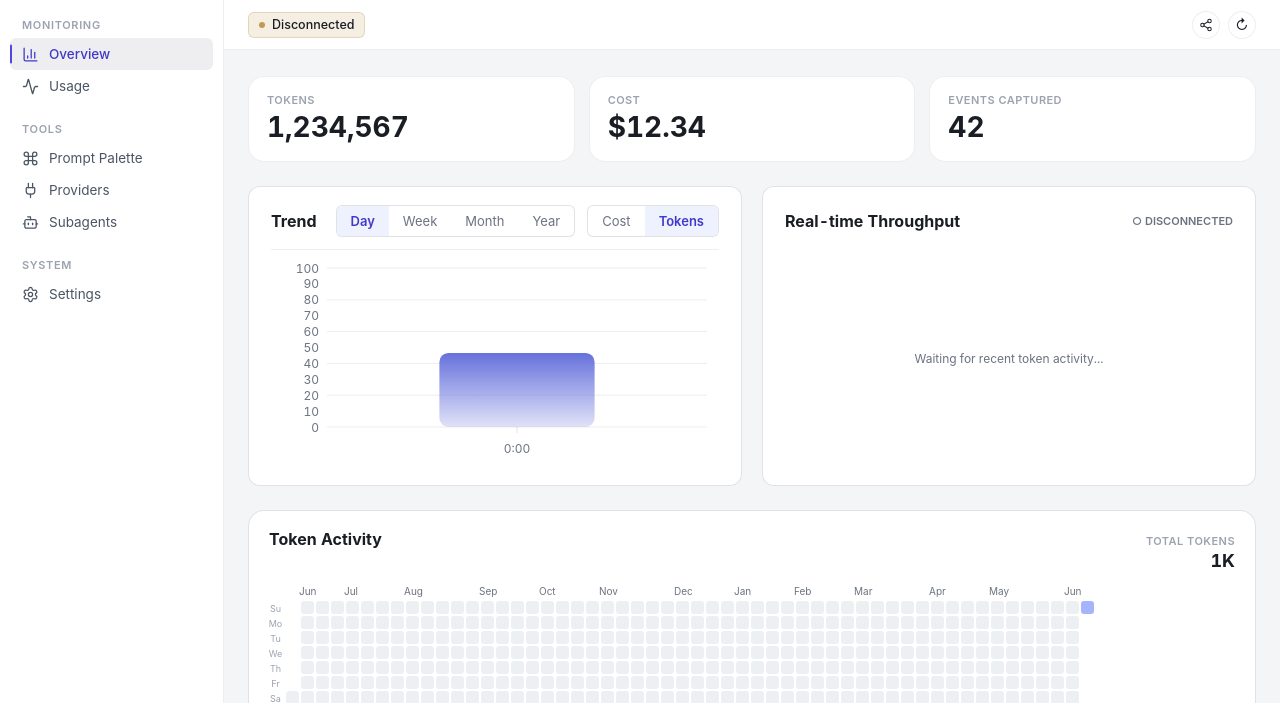
Test: App › navigates back to overview from settings
The image size is (1280, 703).
expect the heading "Trend" is shown: met, box [271, 213, 316, 229]
Click the button "Settings": (112, 294) [10, 278, 213, 310]
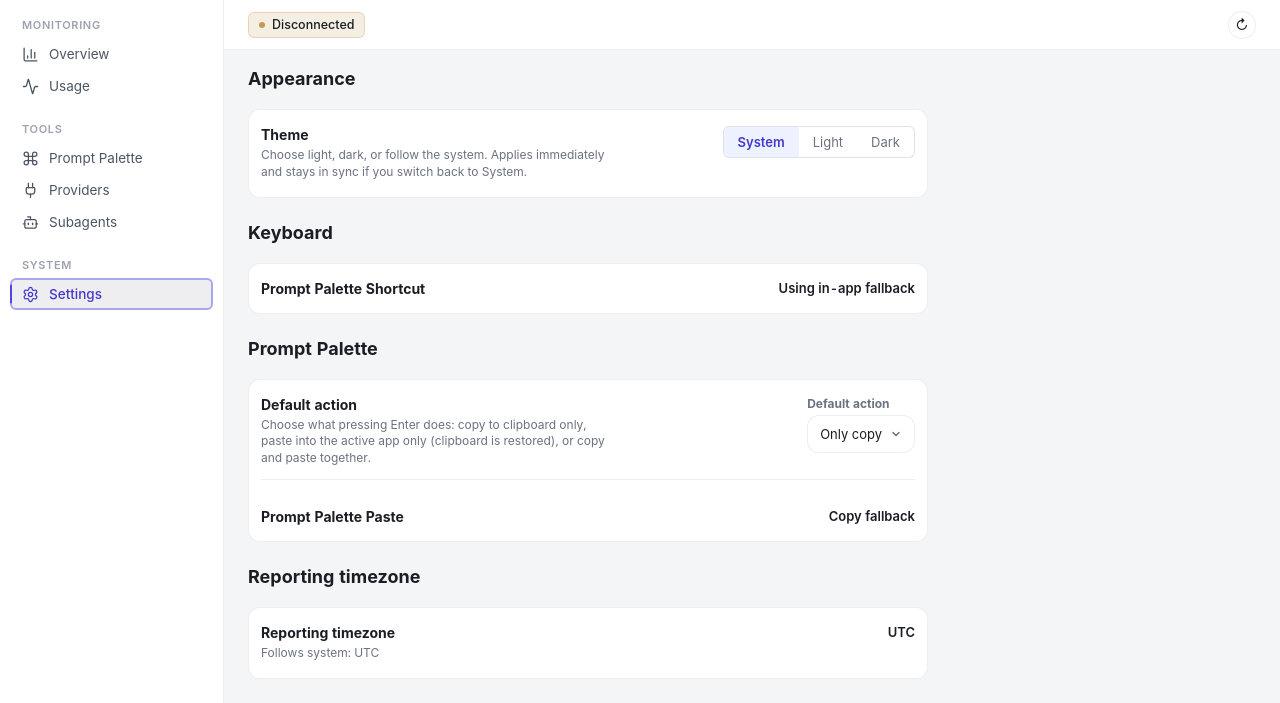
Click the button "Overview": (112, 54) [10, 38, 213, 70]
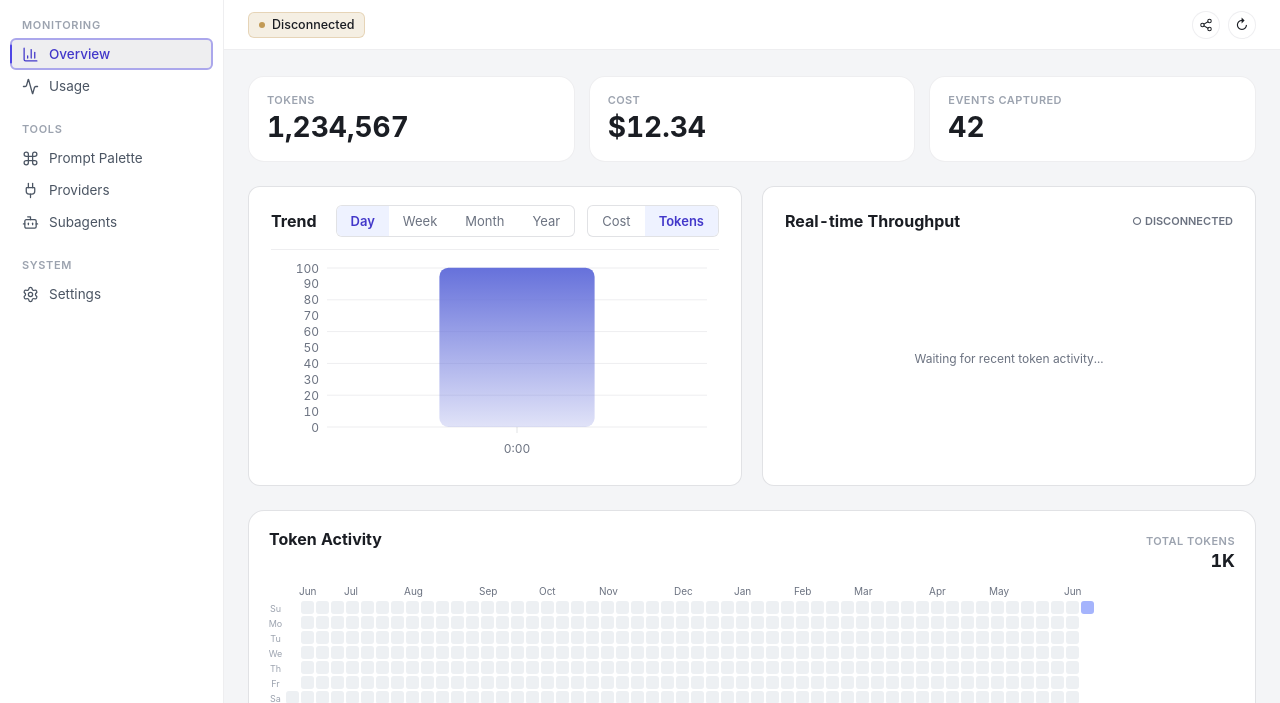
expect the heading "Trend" is shown: met, box [271, 213, 316, 229]
